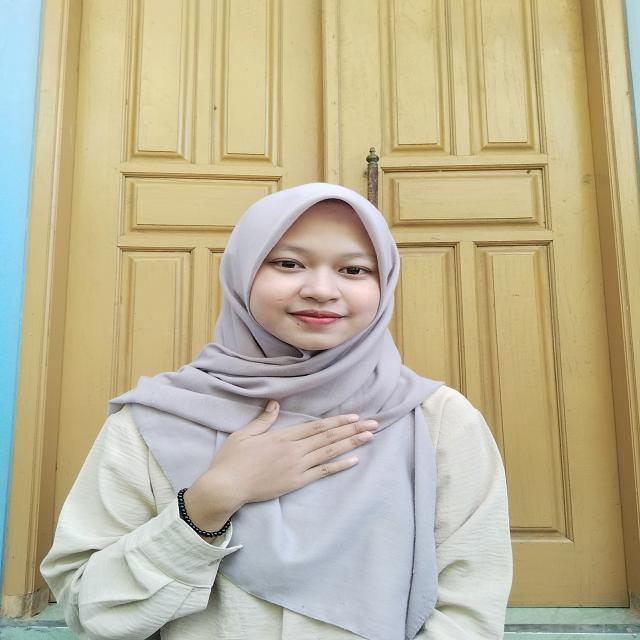tolong: (161, 397, 391, 522)
